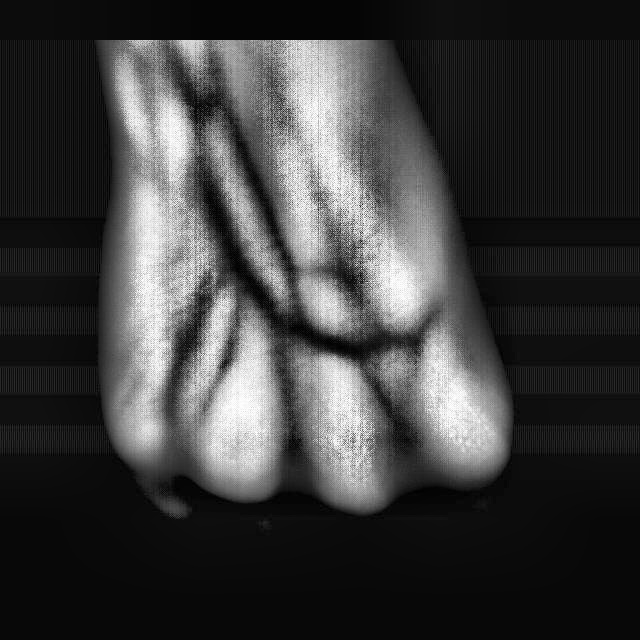Vein: (173, 124, 286, 323)
